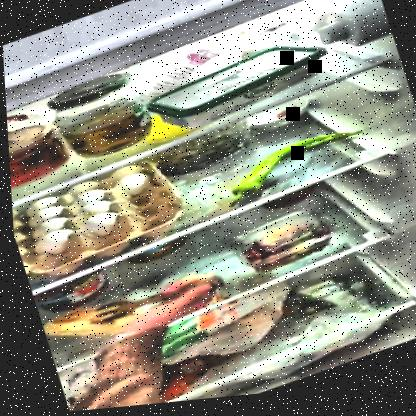cream_cheese: (150, 42, 328, 141)
eggs: (19, 164, 162, 259)
green_chillies: (214, 131, 365, 211)
